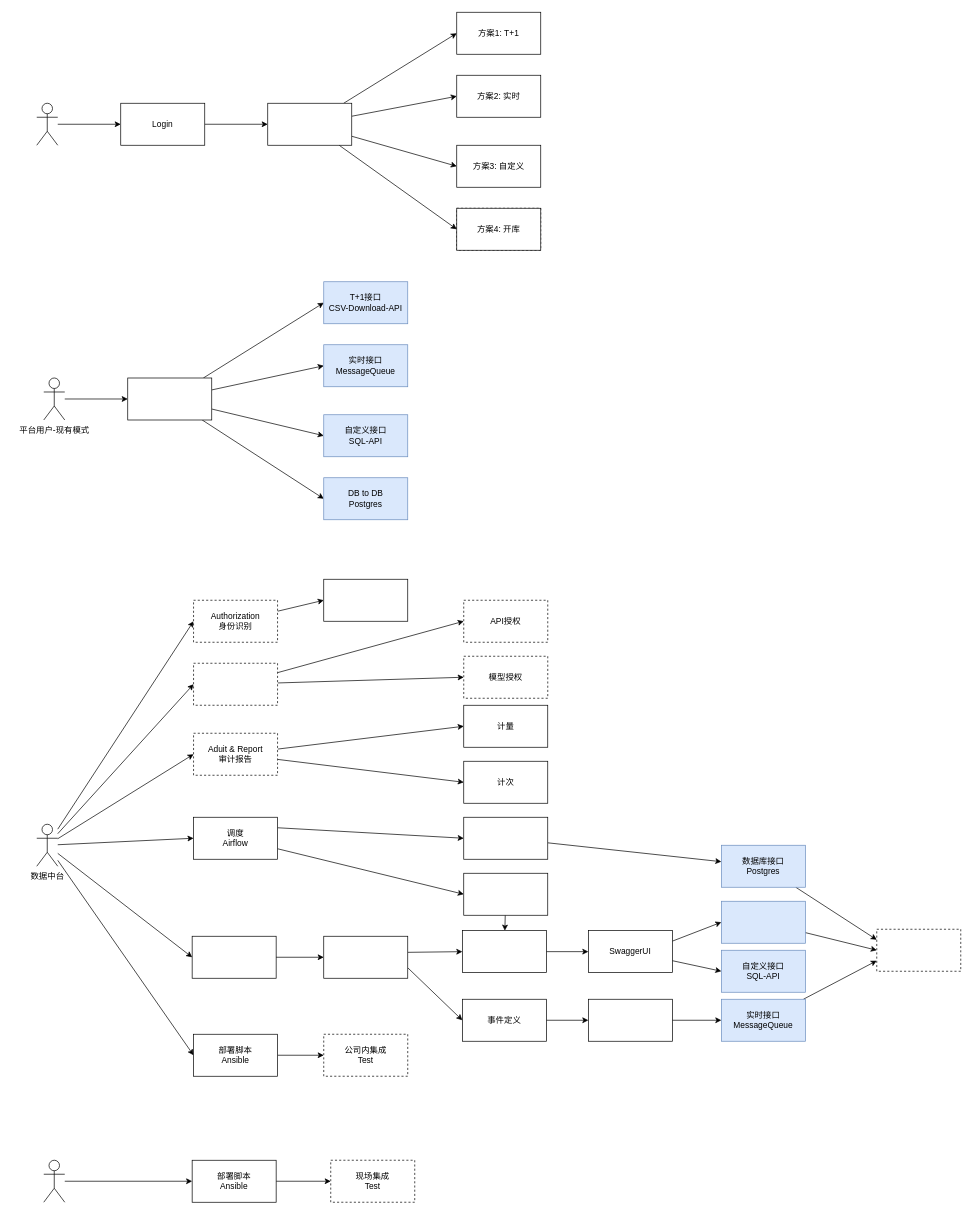
This 973x1229 diagram has some shape labels left out. Each missing label, with the box of its shape:
AccessControl 访问控制: (193, 663, 278, 705)
API-模型: (323, 936, 408, 978)
HLHT/360/HDW..: (876, 929, 961, 971)
Kettle & SQL: (463, 817, 548, 859)
Model: (267, 103, 352, 145)
Service RESTful-API: (462, 930, 546, 973)
SingleSignOn 运维平台: (323, 579, 408, 621)
T+1接口 Download-CSV-API: (721, 901, 805, 943)
Table to CSV DataX: (463, 873, 548, 915)
事件采集服务 EventCollector: (588, 999, 672, 1041)
实施: (43, 1160, 65, 1202)
平台用户-理想模式: (36, 103, 58, 145)
模型定义: (191, 936, 276, 978)
模型设计 PowerDesigner: (127, 377, 212, 420)
